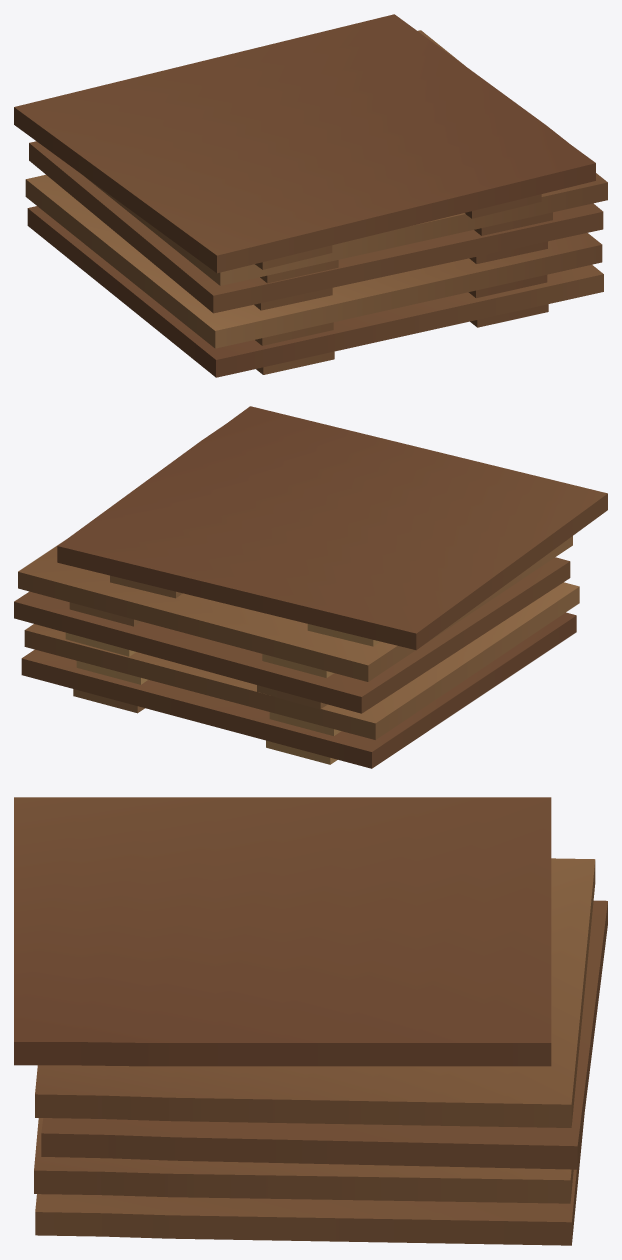
Rendered from Multiple Tall Light Crate Lids.fbx.
3 renders of one model, top to bottom at view 1: azimuth 30°, elevation 25°; view 2: azimuth 150°, elevation 25°; view 3: azimuth 270°, elevation 25°, orthographic. The views are drawn at different scales.
Visible parts, largest first — view 1: Multiple Tall Light Crate Lids; view 2: Multiple Tall Light Crate Lids; view 3: Multiple Tall Light Crate Lids.
Boxes of the visible parts, x1=… form: Multiple Tall Light Crate Lids: x1=14, y1=14, x2=607, y2=377; Multiple Tall Light Crate Lids: x1=14, y1=406, x2=607, y2=768; Multiple Tall Light Crate Lids: x1=14, y1=797, x2=607, y2=1245.
Size of the model in its own units: 85.64 by 231 by 247.
Materials: 1 (1 with a texture image).
